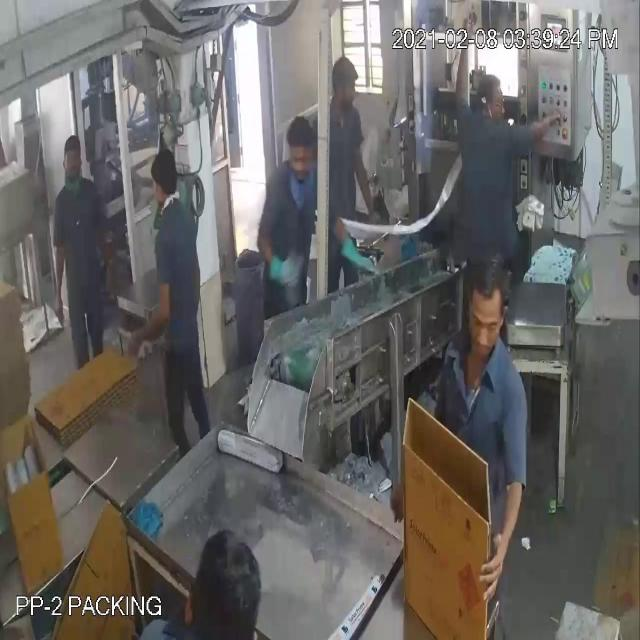No_Gloves: (14, 57, 549, 522)
